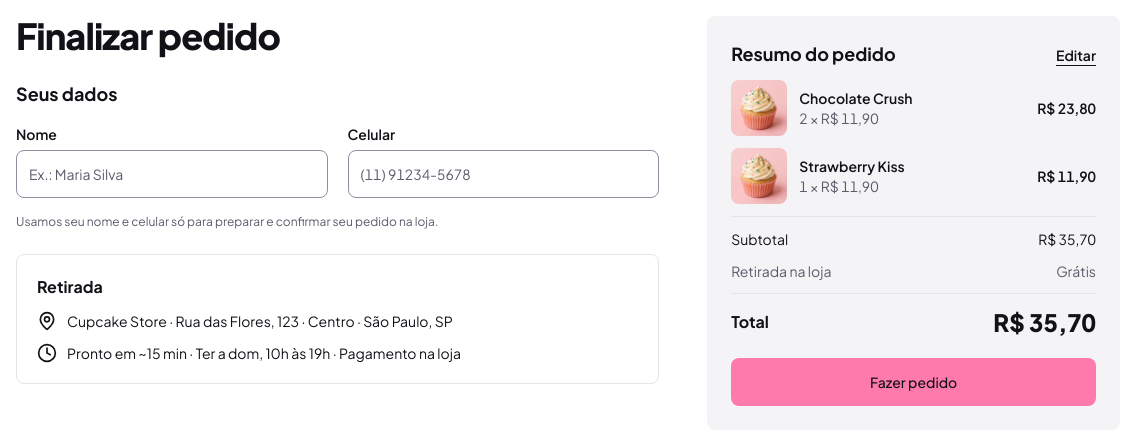
it: US-11 check out without an account › masks the phone while typing
Expected: the heading "Resumo do pedido" is shown, [731, 40, 896, 68]
Type "11912345678" into the field labelled "Celular" at (503, 174), box [348, 150, 659, 198]
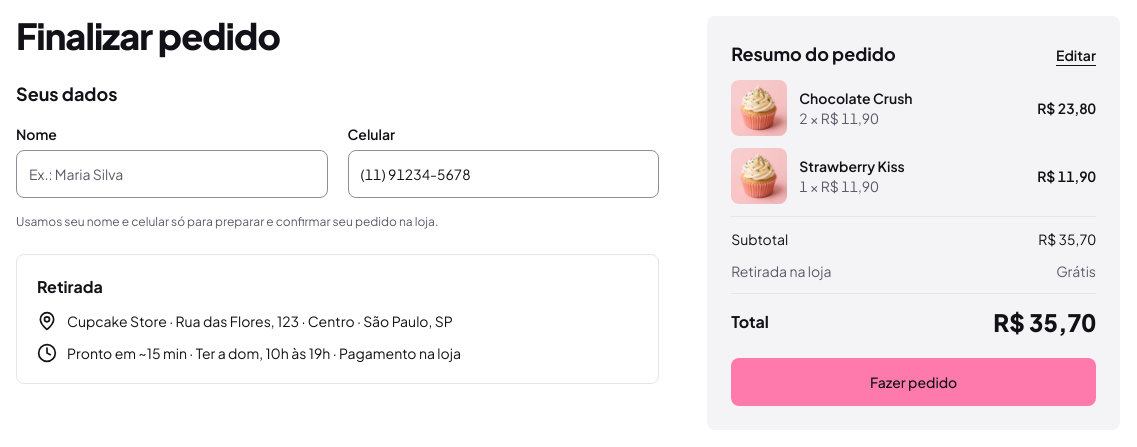
Expected: the field labelled "Celular" holds "(11) 91234-5678", [348, 150, 659, 198]
